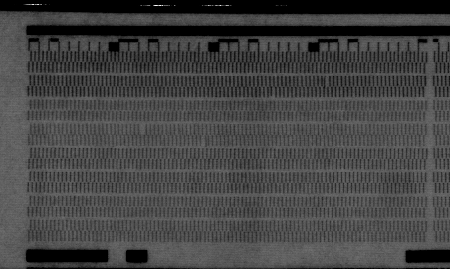Broken hole: (137, 123, 148, 135)
Oblique printing: (320, 76, 333, 90), (266, 85, 278, 100), (198, 134, 210, 148)
